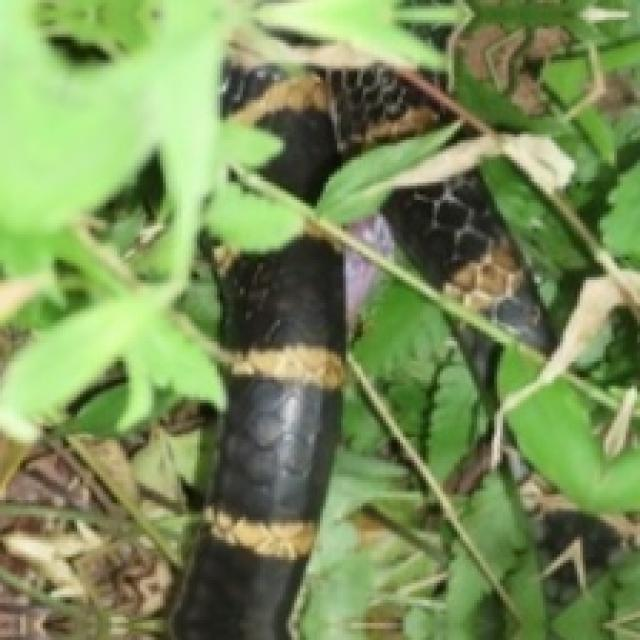king cobra: (171, 234, 343, 637), (223, 69, 451, 214)
